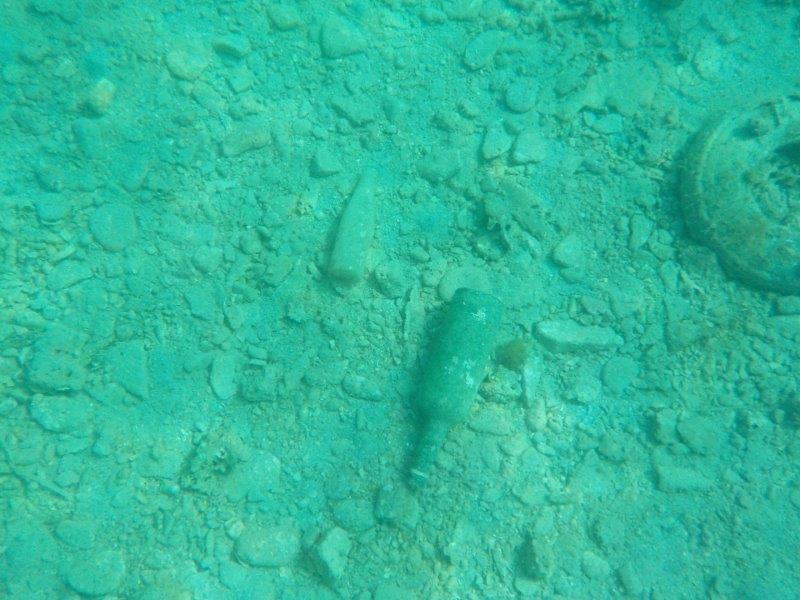bottle: (405, 284, 508, 495), (324, 163, 383, 285)
tire: (676, 89, 800, 295)
